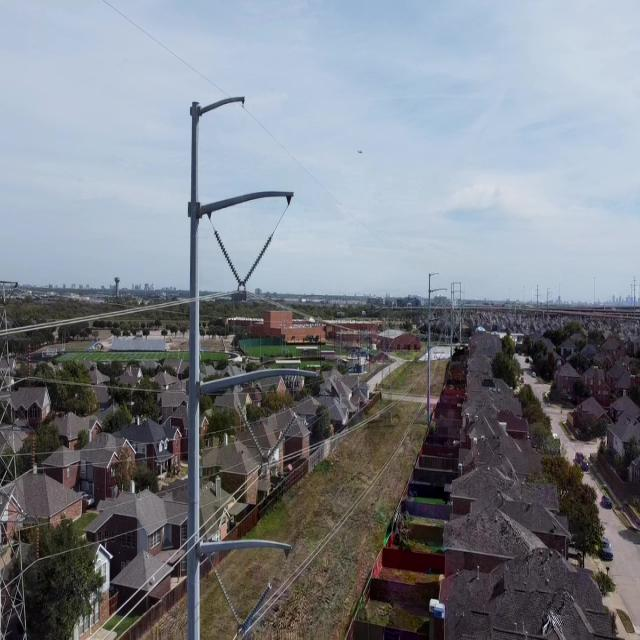正常绝缘子: (237, 224, 279, 294), (259, 406, 302, 472), (209, 218, 245, 294), (236, 574, 278, 638), (233, 394, 267, 468), (209, 558, 243, 632)
